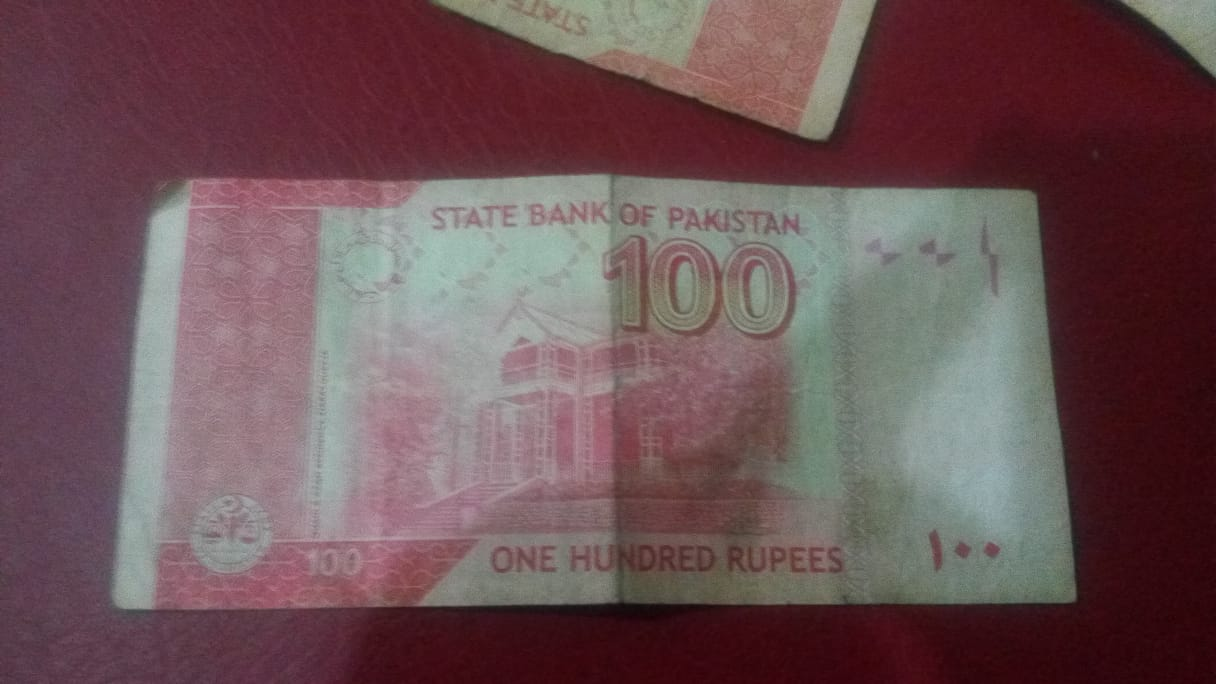100 rupee: (100, 150, 1121, 654)
